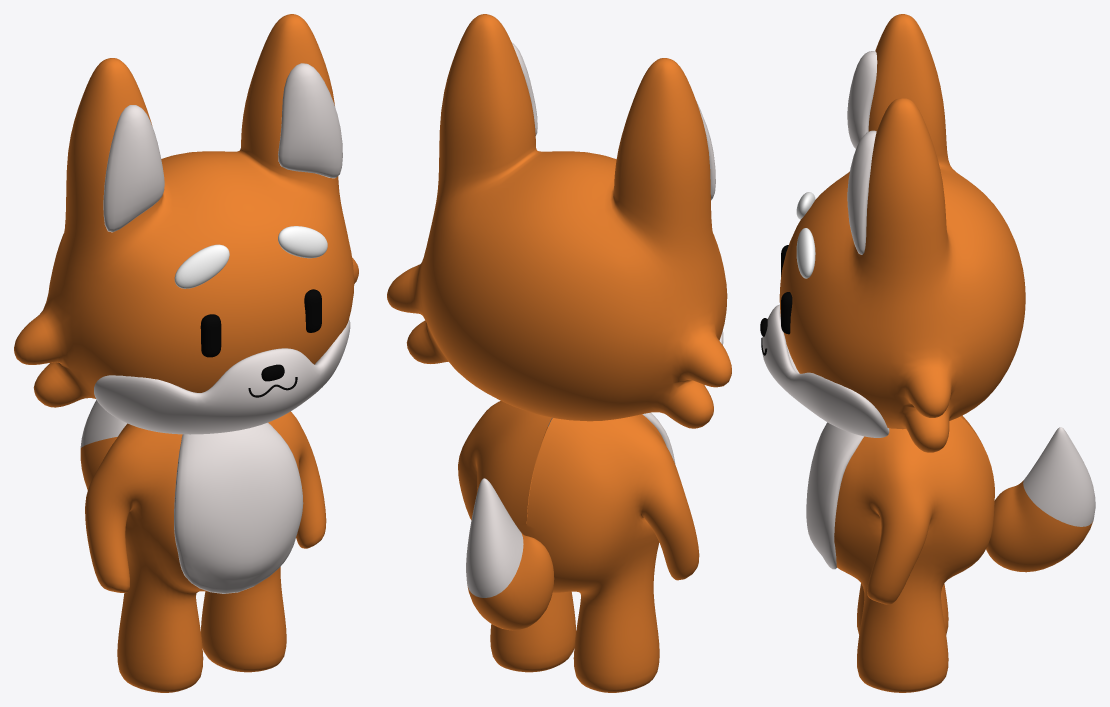
Rendered from fox.glb.
The picture shows the model from 3 angles, left to right: view 1: azimuth 30°, elevation 25°; view 2: azimuth 150°, elevation 25°; view 3: azimuth 270°, elevation 25°; orthographic projection. The views are drawn at different scales.
Parts seen in each view (by area): view 1: Cube_0, Cube.001_1, Cube.004_4, Cube.002_2, Cube.003_3, Cube.006_6, Cube.008_9, Cube.005_5; view 2: Cube_0, Cube.001_1, Cube.008_9, Cube.003_3; view 3: Cube_0, Cube.001_1, Cube.008_9, Cube.002_2, Cube.004_4, Cube.003_3, Cube.006_6, Cube.005_5.
Boxes of the visible parts, x1,y1,x2,y2 form: Cube_0: (14, 14, 358, 407); Cube.001_1: (85, 411, 326, 692); Cube.004_4: (174, 422, 303, 593); Cube.002_2: (94, 319, 350, 434); Cube.003_3: (103, 63, 342, 232); Cube.006_6: (174, 226, 327, 288); Cube.008_9: (80, 400, 127, 490); Cube.005_5: (200, 289, 321, 357); Cube_0: (387, 14, 731, 428); Cube.001_1: (458, 401, 699, 692); Cube.008_9: (466, 478, 554, 630); Cube.003_3: (512, 43, 715, 200); Cube_0: (779, 14, 1025, 452); Cube.001_1: (834, 415, 994, 692); Cube.008_9: (986, 427, 1095, 572); Cube.002_2: (762, 304, 889, 437); Cube.004_4: (806, 422, 863, 569); Cube.003_3: (847, 51, 877, 254); Cube.006_6: (796, 192, 815, 278); Cube.005_5: (781, 245, 792, 334).
Size of the model in its own units: 0.8571 by 1.52 by 0.7641.
